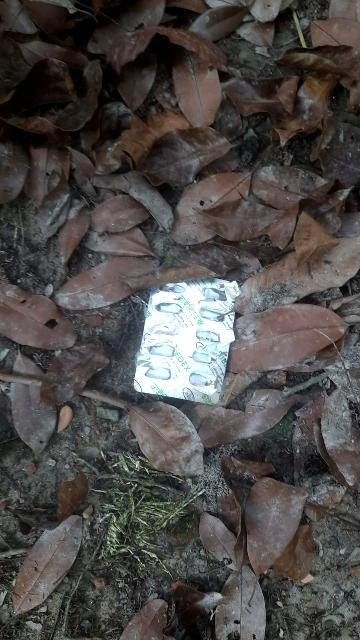medicine: (118, 278, 254, 403)
